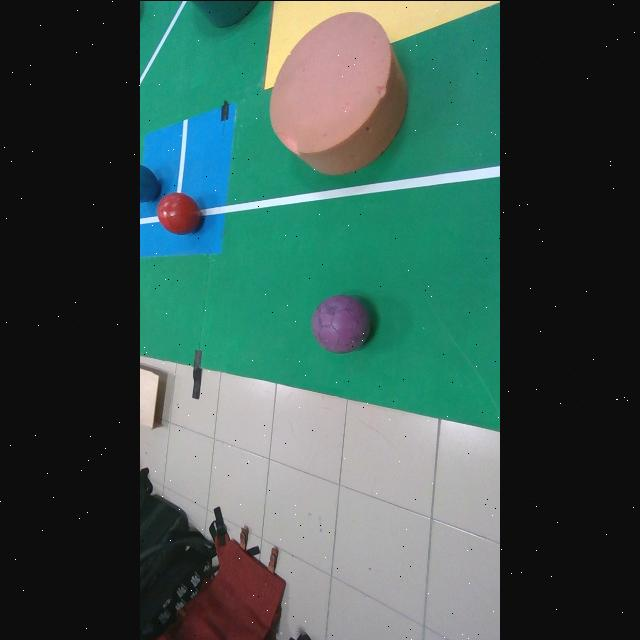B: (140, 164, 161, 201)
P: (312, 294, 371, 352)
R: (157, 191, 201, 234)
